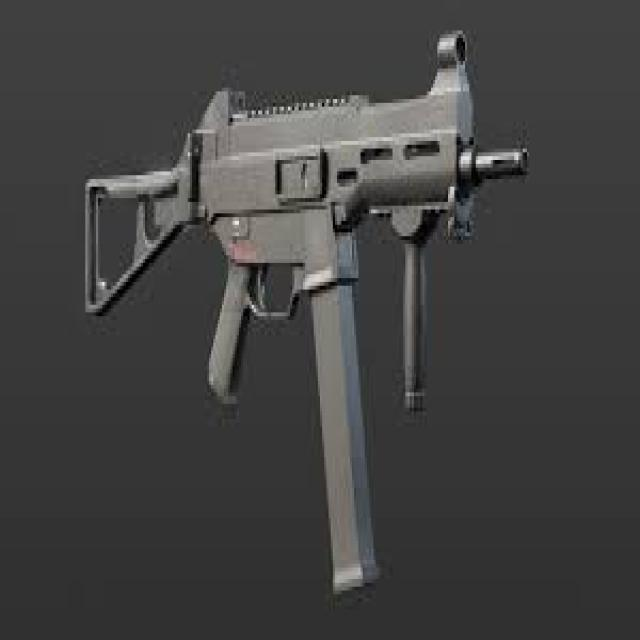Gun: (61, 44, 546, 610)
